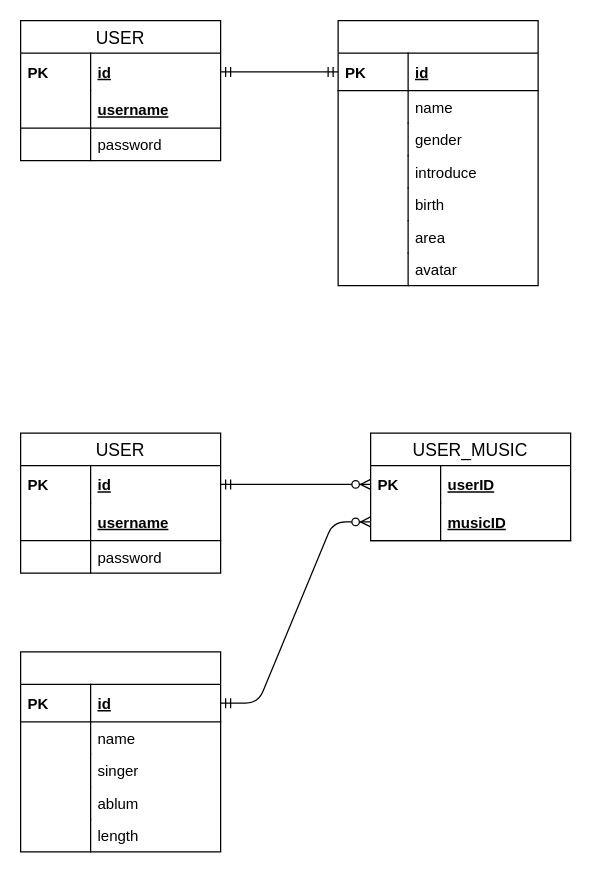
The diagram is 591 pixels wide and 873 high, and some of its shapes have lost their labels. The shapes that lost their labels are listed below. From the top down, each one's box as (x1, y1, x2, y2) in pixels, then its label:
(337, 19, 538, 286): USER_INFO
(19, 651, 221, 852): MUSIC
